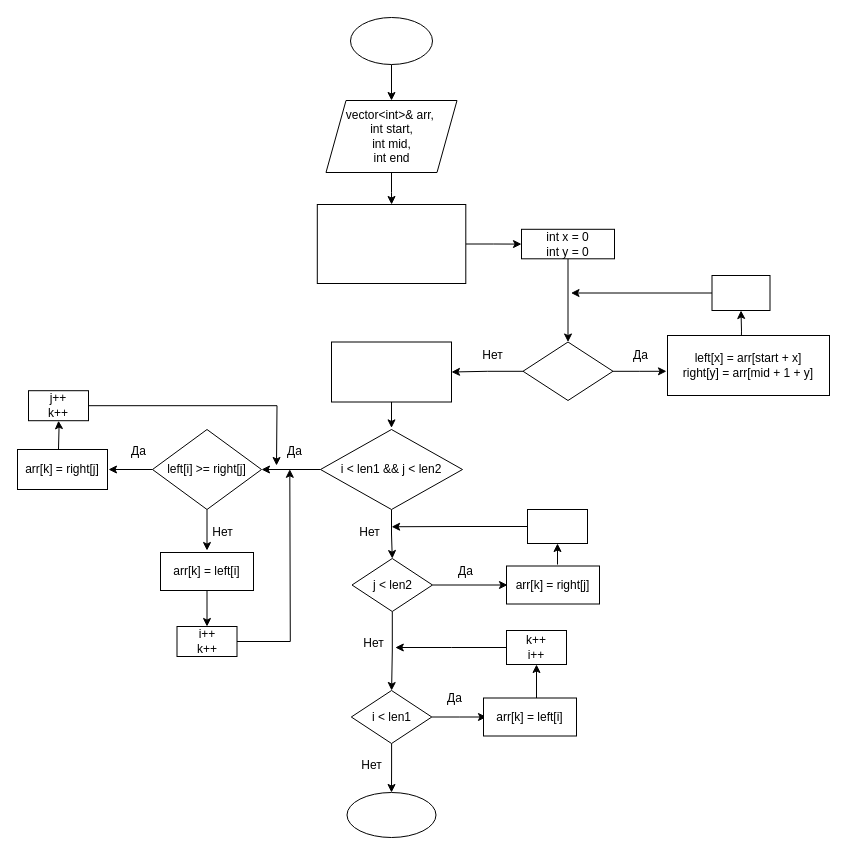
This 847x855 diagram has some shape labels left out. The centre of each missing label's shape, as x and y in pixels:
"int i = 0 int j = 0 int k = start" belongs at [391,371].
"int len1 = mid - start + 1 int len2 = end - mid int left[len1] int right[len2]" belongs at [391,244].
"k++ j++" belongs at [557,526].
"x < len1 у < len2" belongs at [567,370].
"x++ y++" belongs at [740,292].
"Конец" belongs at [391,815].
"Начано" belongs at [391,40].
